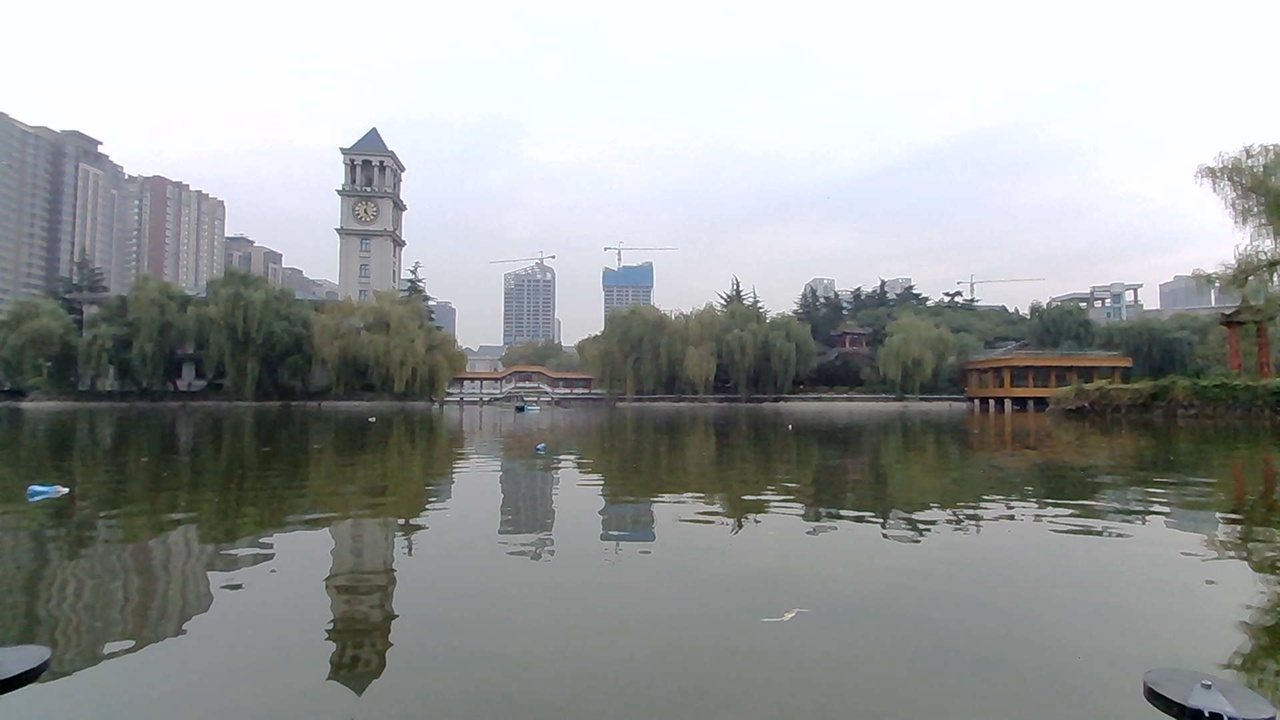bottle: (13, 466, 82, 506), (534, 429, 575, 458), (778, 414, 809, 435), (368, 409, 394, 428)
